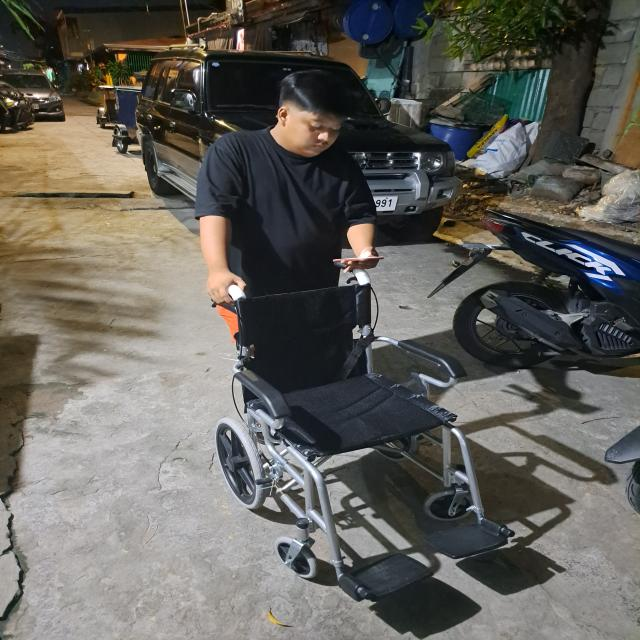wheelchairs: (218, 269, 520, 602)
